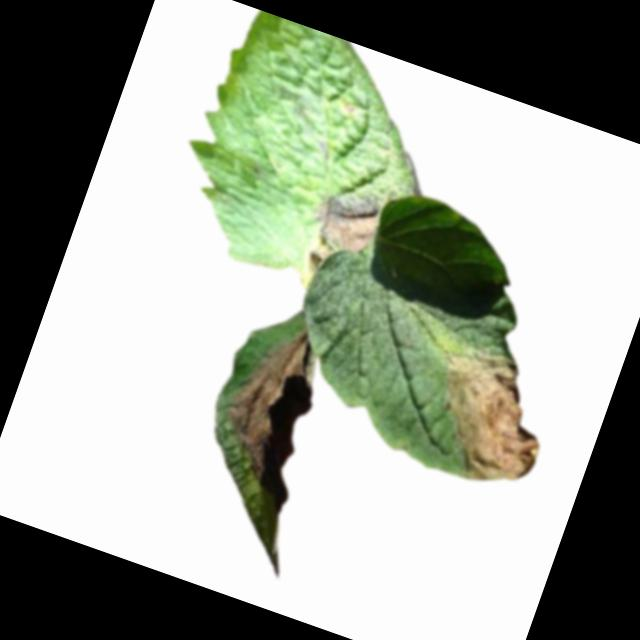Late_blight: (408, 339, 567, 501), (212, 315, 314, 481), (305, 182, 388, 261), (301, 242, 335, 280)
